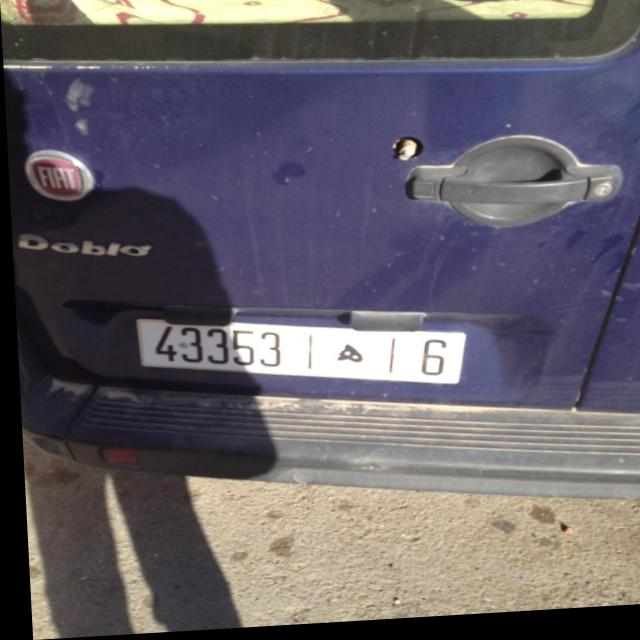License-Plate: (133, 321, 462, 389)
